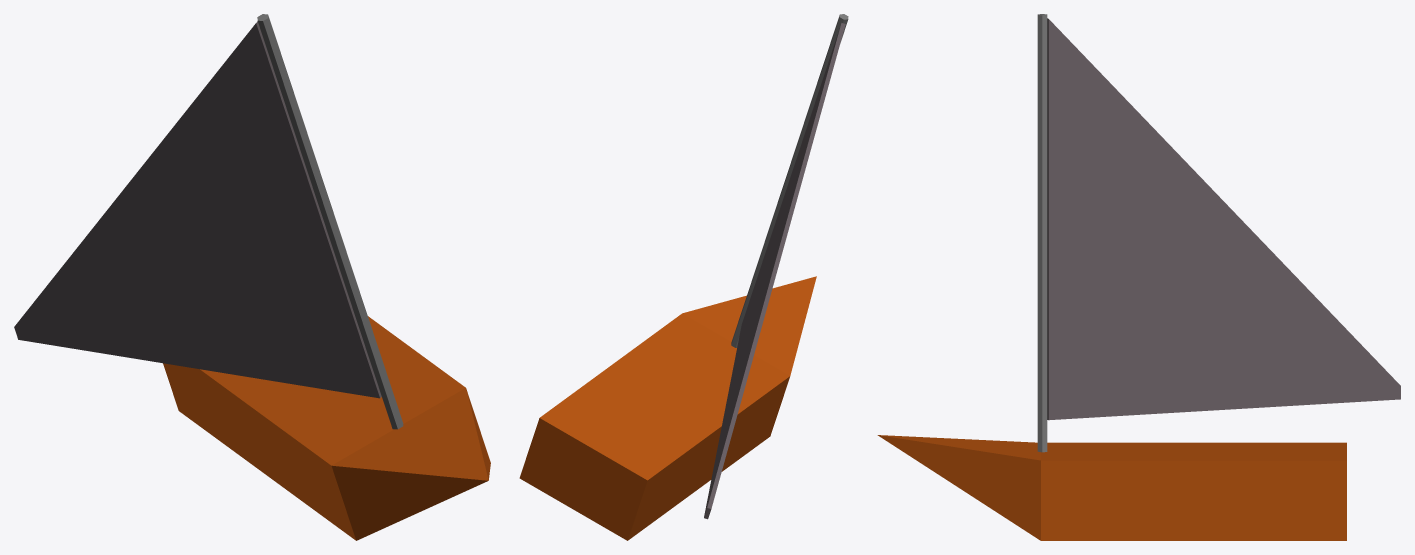
The model's file is BOAT1.glb.
The picture shows the model from 3 angles, left to right: view 1: azimuth 30°, elevation 25°; view 2: azimuth 150°, elevation 25°; view 3: azimuth 270°, elevation 25°; orthographic projection. The views are drawn at different scales.
Parts seen in each view (by area): view 1: BOAT1 | archived geometry; view 2: BOAT1 | archived geometry; view 3: BOAT1 | archived geometry.
Boxes of the visible parts, box(x1,y1,x2,y2) form: BOAT1 | archived geometry: box(14, 14, 490, 540); BOAT1 | archived geometry: box(519, 14, 848, 540); BOAT1 | archived geometry: box(877, 14, 1400, 540).
Size of the model in its own units: 3.52 by 6.85 by 6.9.
